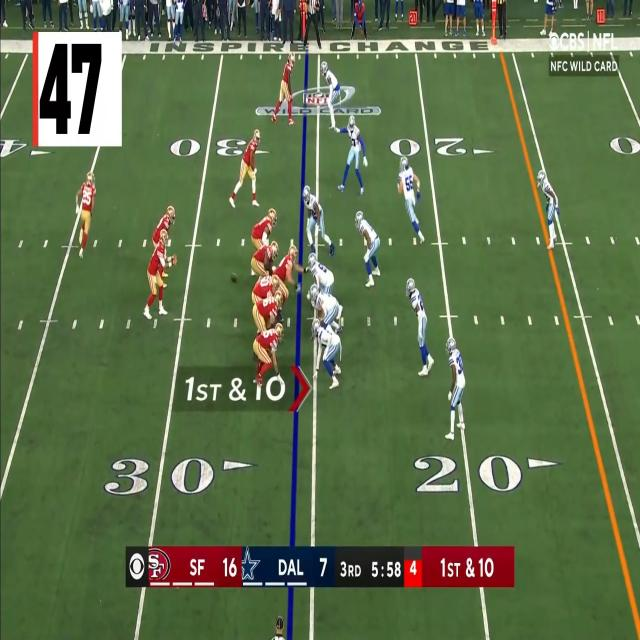football: (231, 272, 238, 284)
players: (229, 128, 265, 214), (394, 158, 428, 249), (443, 337, 471, 444), (142, 231, 174, 318), (335, 116, 368, 200), (353, 208, 384, 292), (406, 278, 432, 377), (313, 316, 345, 394), (302, 186, 336, 257), (536, 169, 564, 248), (74, 174, 98, 264), (271, 52, 299, 128), (320, 58, 346, 138), (252, 323, 285, 386), (275, 244, 304, 304), (308, 288, 344, 336), (252, 291, 286, 336), (304, 254, 334, 304), (254, 207, 281, 260), (251, 240, 282, 284), (152, 202, 178, 253), (252, 274, 280, 309), (270, 616, 292, 640)
